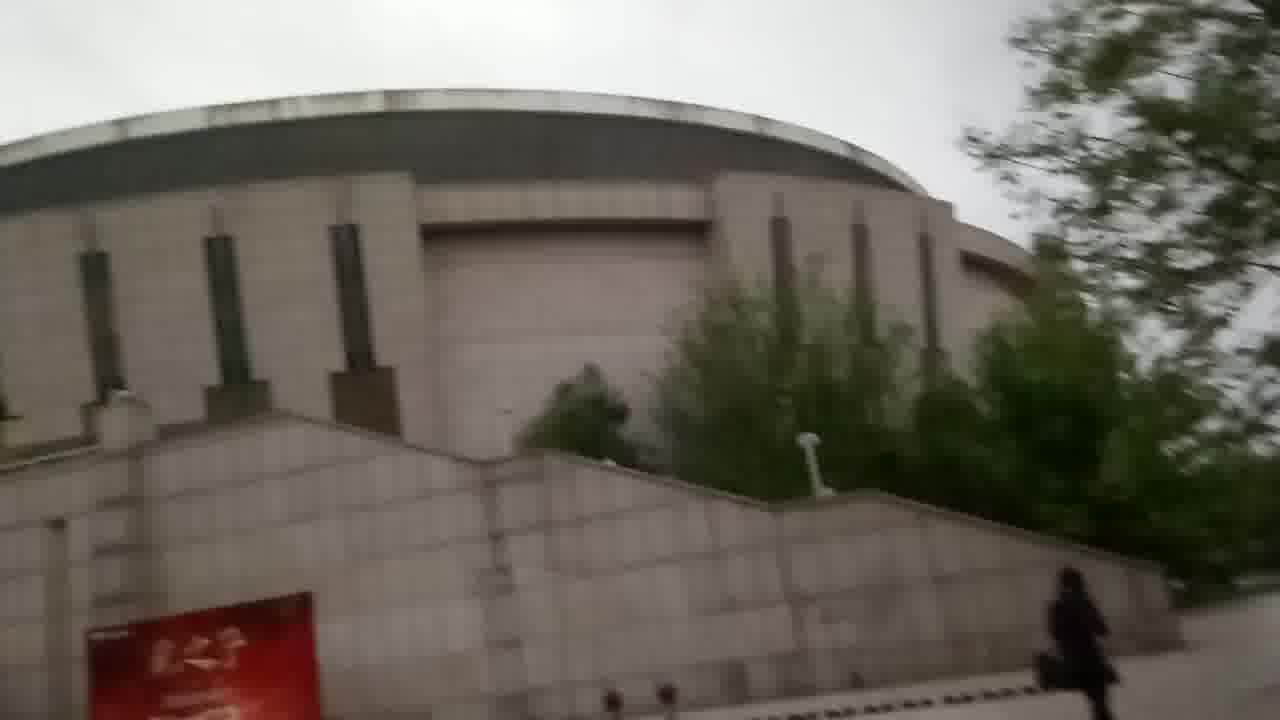zhongtiww: (3, 81, 1175, 720)
